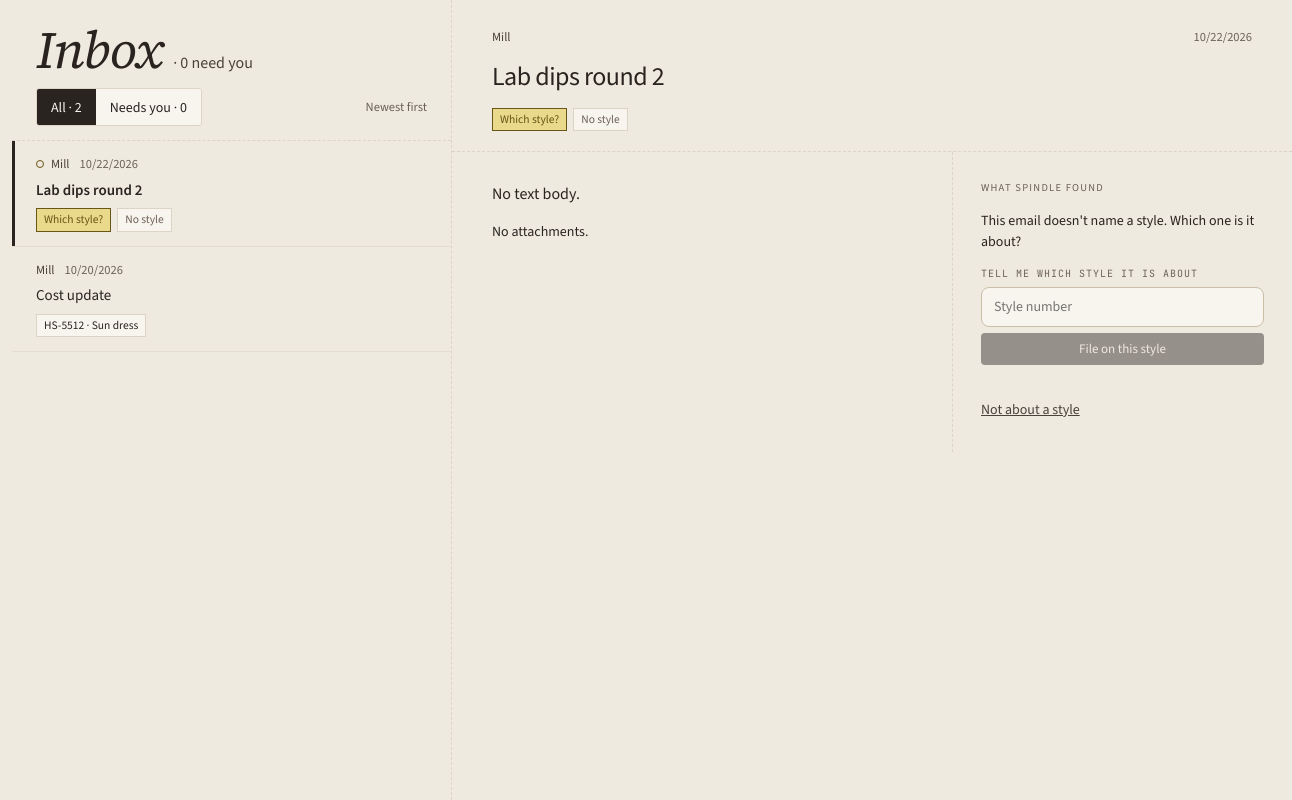
Inbox › shows exceptions in Needs you and keeps ordinary mail on All
expect the option "Mill 10/20/2026 Cost update HS-5512 · Sun dress" is shown: met, box [12,246,451,352]
expect the option "Mill 10/22/2026 Lab dips round 2 Which style? No style" is shown: met, box [12,141,451,246]
What coordinates should you click on to do the following:
click the button "Needs you · 0"
I would click on:
 (148, 107)
Its box is [96,89,201,125].
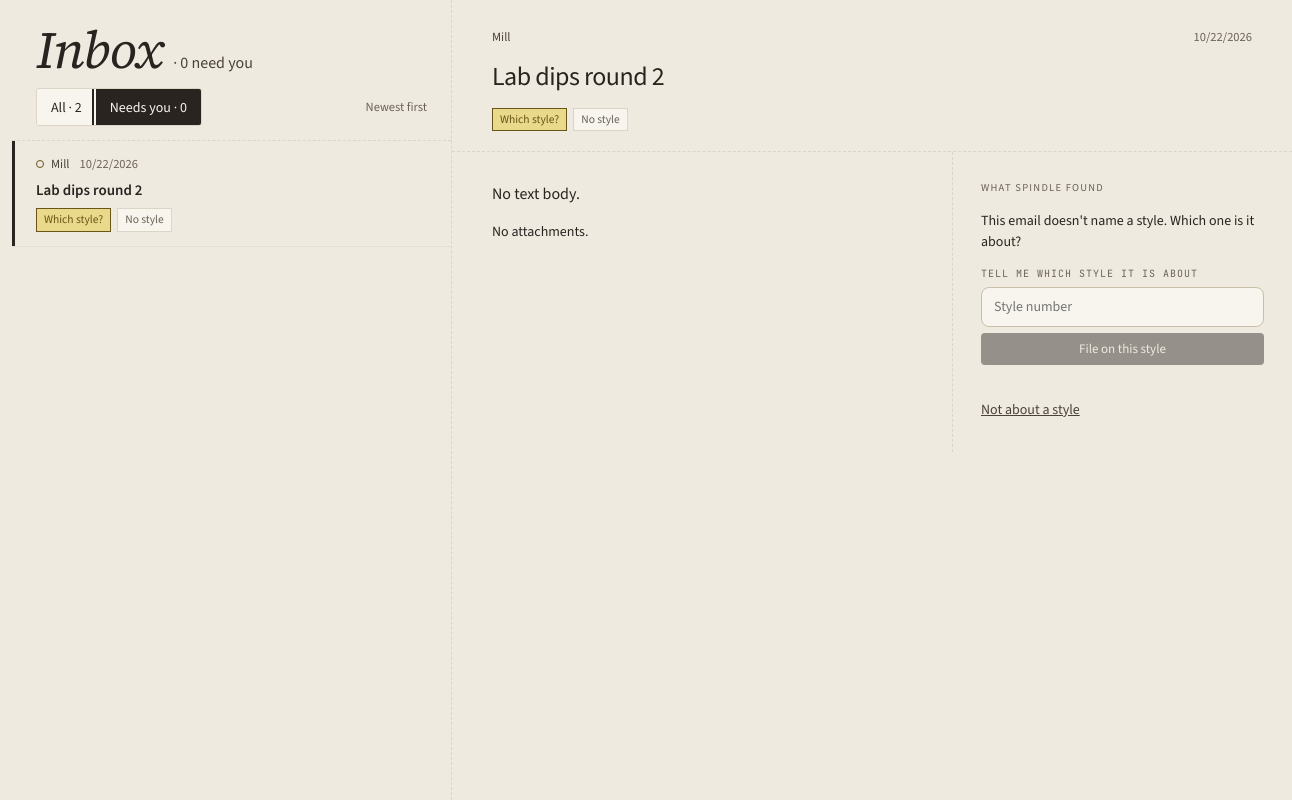
expect the option "Mill 10/22/2026 Lab dips round 2 Which style? No style" is shown: met, box [12,141,451,246]
expect the option "Cost update" is gone: met
